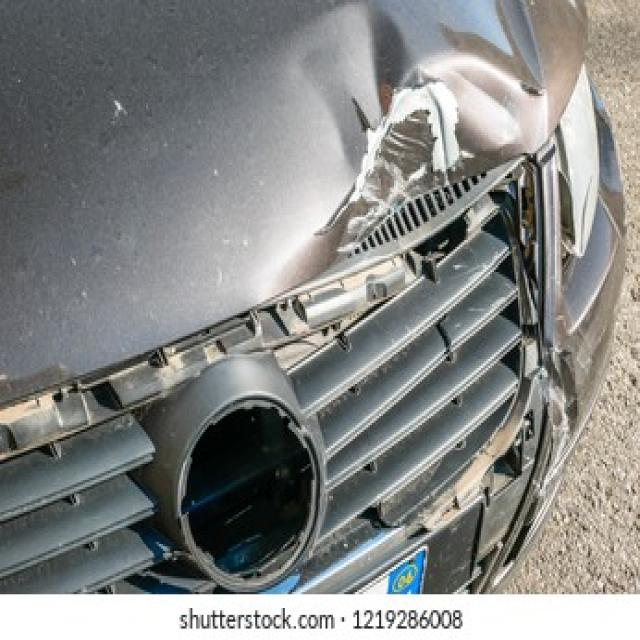crush: (0, 0, 577, 594)
